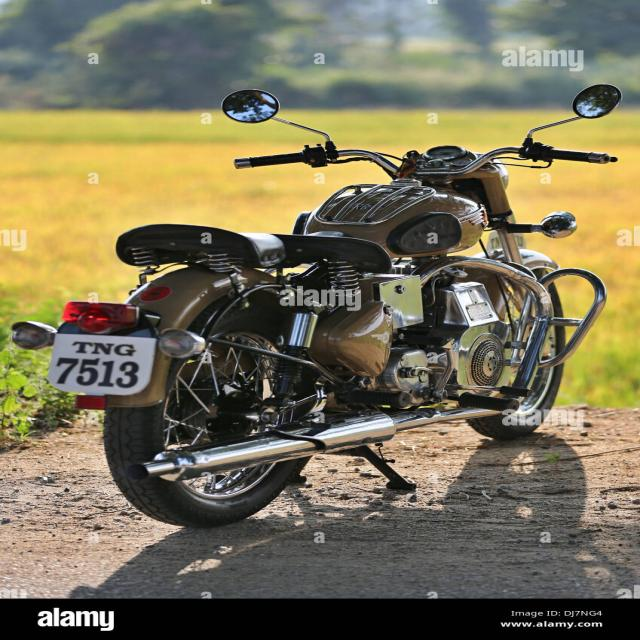license_plate: (46, 331, 158, 396)
